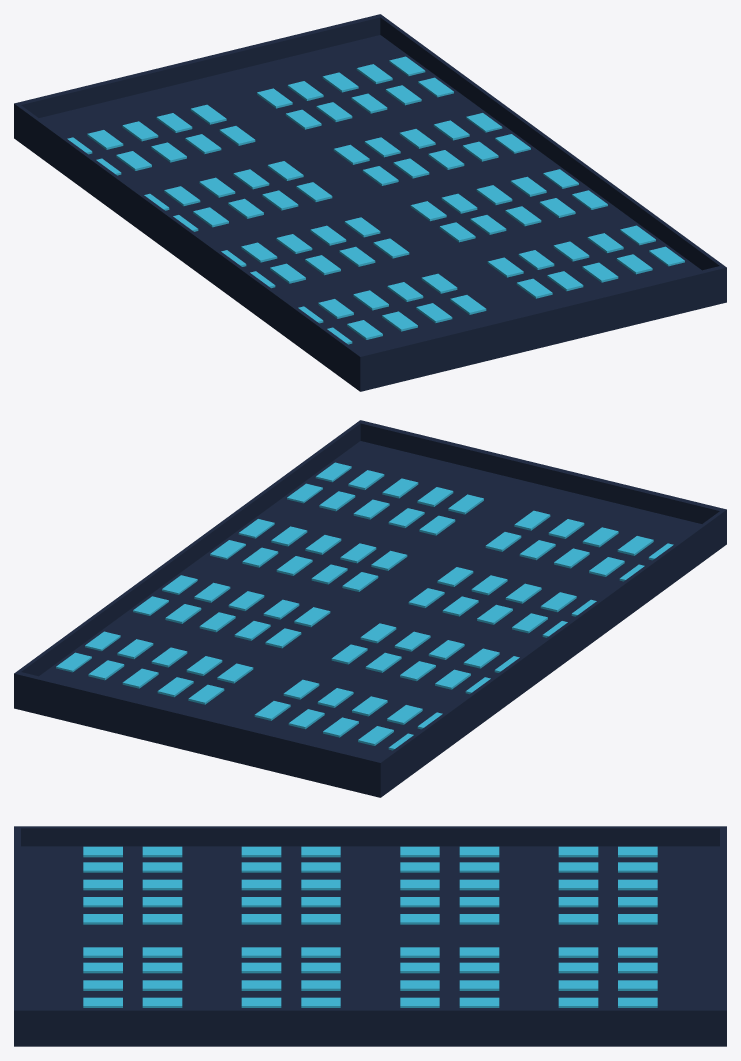
File: carRoom.gltf
The picture shows the model from 3 angles, top to bottom: view 1: azimuth 30°, elevation 25°; view 2: azimuth 150°, elevation 25°; view 3: azimuth 270°, elevation 25°; orthographic projection. The views are drawn at different scales.
Visible parts, largest first — view 1: carRoom; view 2: carRoom; view 3: carRoom, car.012, car.015, car.016, car.032, car.035, car.036, car.043, car.044, car.047, car.063, car.064 (+61 smaller).
Boxes of the visible parts, x1=… form: carRoom: x1=14, y1=14, x2=726, y2=391; carRoom: x1=14, y1=420, x2=726, y2=797; carRoom: x1=14, y1=826, x2=726, y2=1046; car.012: x1=142, y1=879, x2=182, y2=890; car.015: x1=142, y1=846, x2=182, y2=857; car.016: x1=142, y1=962, x2=182, y2=973; car.032: x1=241, y1=879, x2=281, y2=890; car.035: x1=241, y1=846, x2=281, y2=857; car.036: x1=241, y1=962, x2=281, y2=973; car.043: x1=558, y1=962, x2=598, y2=973; car.044: x1=558, y1=846, x2=598, y2=857; car.047: x1=558, y1=879, x2=598, y2=890; car.063: x1=459, y1=962, x2=499, y2=973; car.064: x1=459, y1=846, x2=499, y2=857.
Size of what is drawn, in the model's own units: 22 by 2 by 36.
